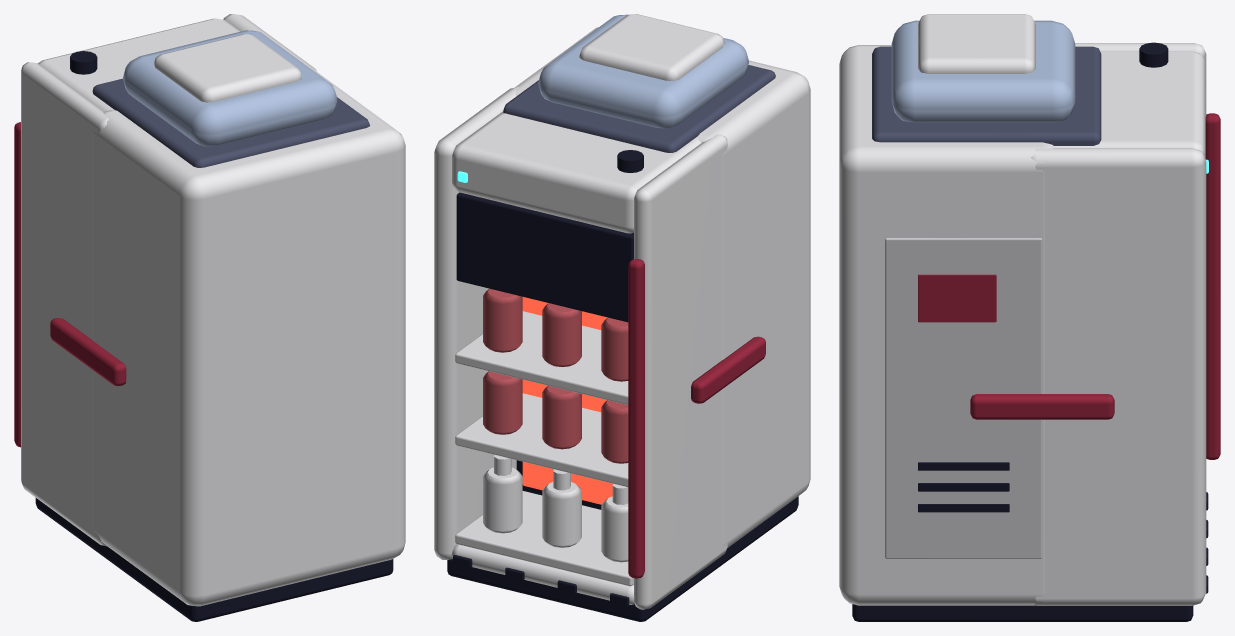
File: prop.props_lounge.fridge_cabinet.glb
3 views of the same model, side by side, from view 1: azimuth 30°, elevation 25°; view 2: azimuth 150°, elevation 25°; view 3: azimuth 270°, elevation 25° (orthographic). The views are drawn at different scales.
Visible parts, largest first — view 1: prop.props_lounge.fridge_cabinet; view 2: prop.props_lounge.fridge_cabinet; view 3: prop.props_lounge.fridge_cabinet.
Boxes of the visible parts, x1,y1,x2,y2 form: prop.props_lounge.fridge_cabinet: [14, 14, 405, 621]; prop.props_lounge.fridge_cabinet: [434, 14, 810, 621]; prop.props_lounge.fridge_cabinet: [839, 14, 1220, 621].
Bounding box in the file's own units: 0.464 × 0.895 × 0.582.
